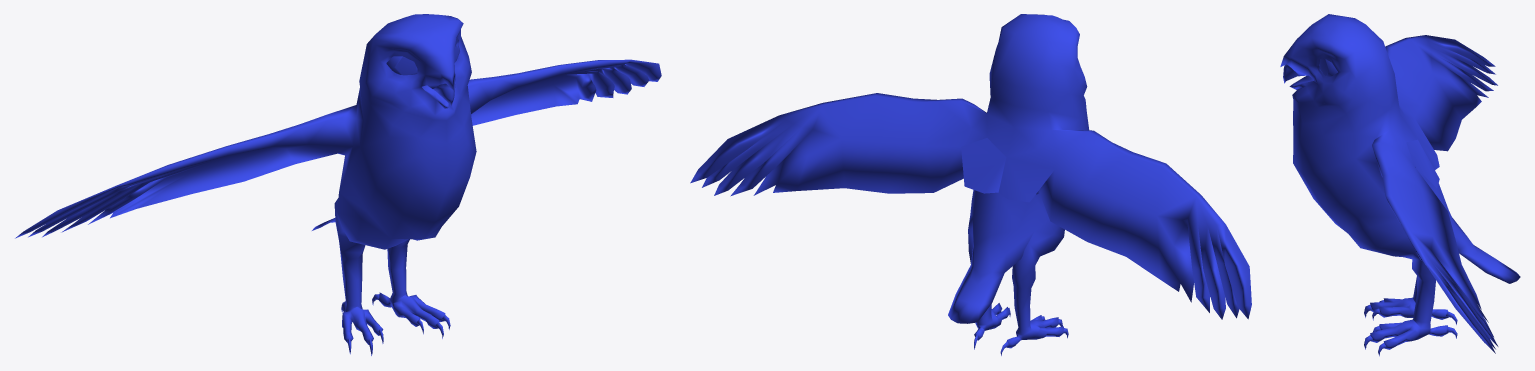
File: Owl.fbx
3 renders of one model, left to right at view 1: azimuth 30°, elevation 25°; view 2: azimuth 150°, elevation 25°; view 3: azimuth 270°, elevation 25°, orthographic. The views are drawn at different scales.
Parts seen in each view (by area): view 1: Cube.004; view 2: Cube.004; view 3: Cube.004.
Boxes of the visible parts, x1,y1,x2,y2 form: Cube.004: [15, 14, 661, 355]; Cube.004: [690, 14, 1251, 355]; Cube.004: [1280, 14, 1520, 356].
Bounding box in the file's own units: 506 × 257 × 179.
